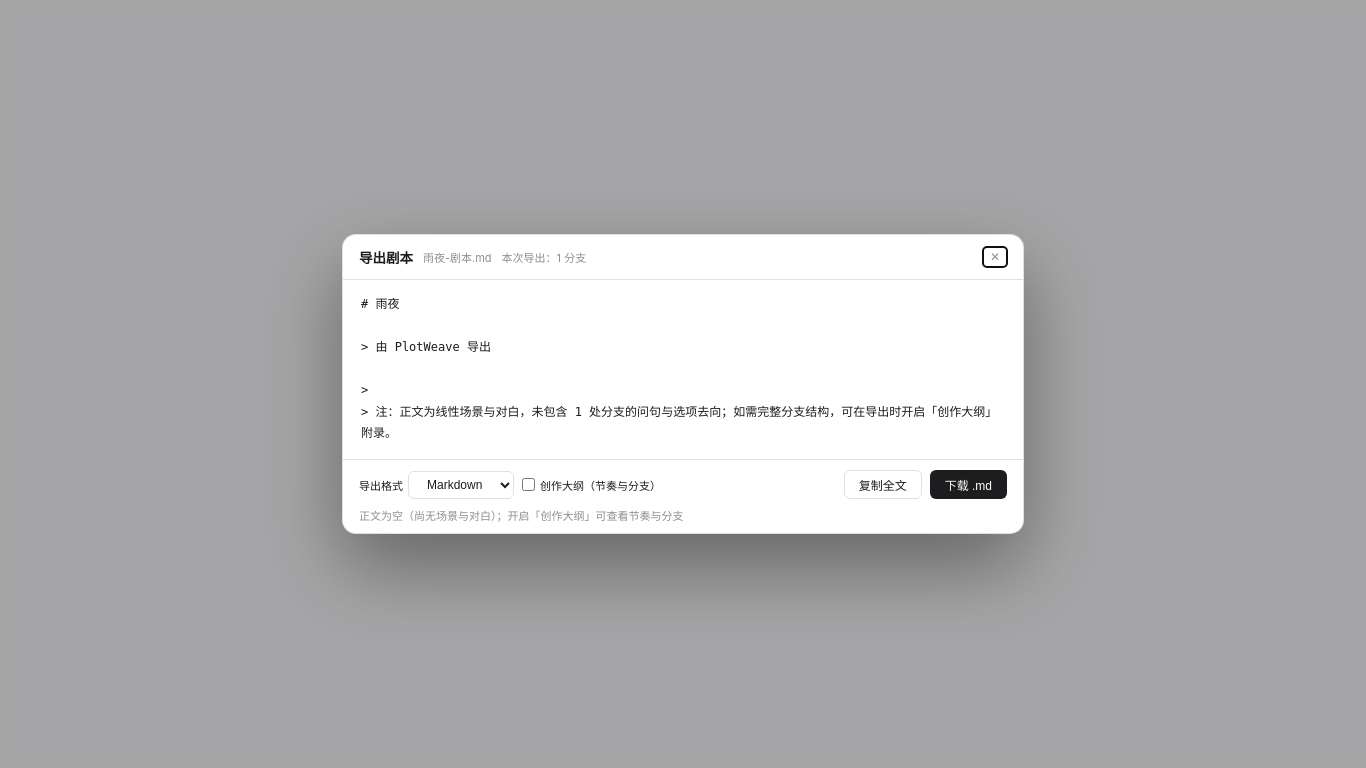
it: ExportDialog（无故事内容，review #81） › 仅有 branch 时仍引导开启有内容的大纲
The image size is (1366, 768).
Expected: the text "正文为空（尚无场景与对白）；开启「创作大纲」可查看节奏与分支" is shown, [359,509,684,523]
Click the checkbox labelled "创作大纲（节奏与分支）".
click(528, 485)  # box [522,478,535,491]
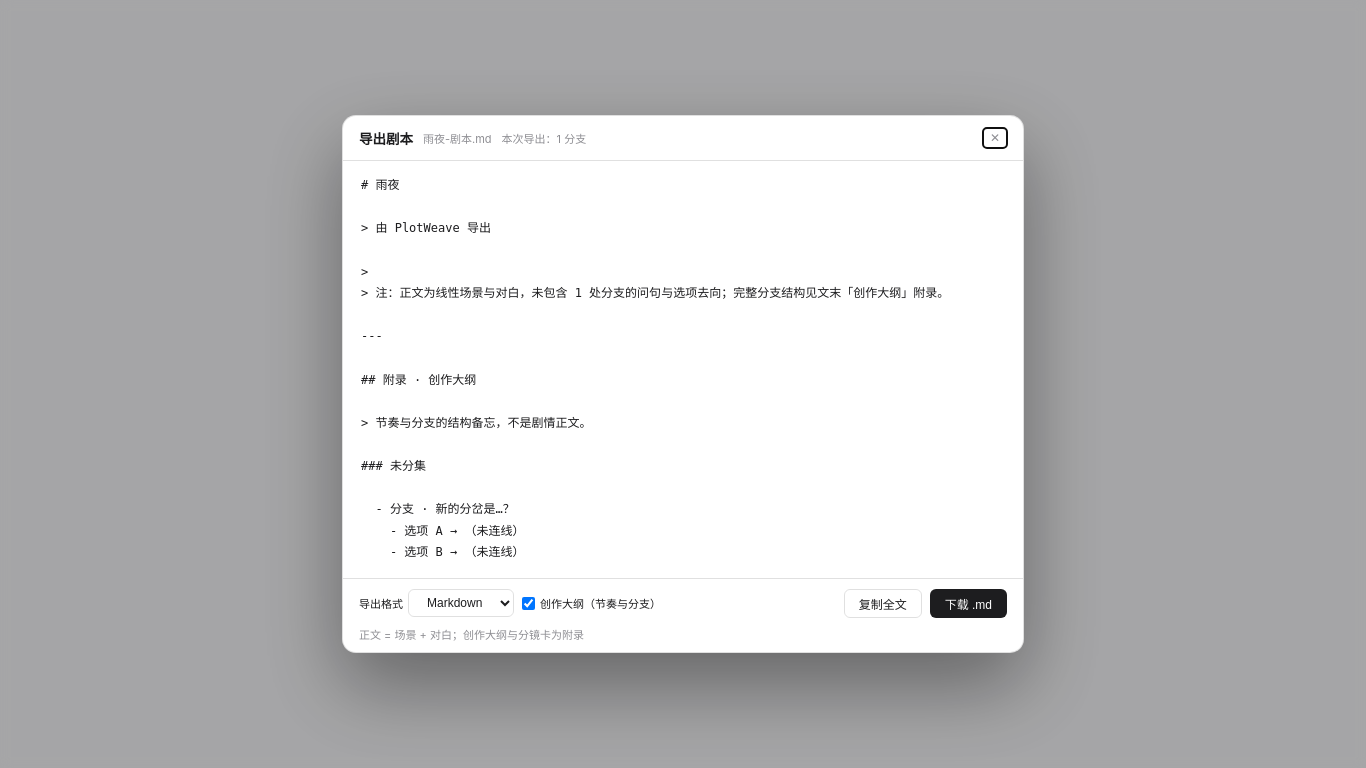
Result: the text "正文 = 场景 + 对白；创作大纲与分镜卡为附录" is shown at [359,628,584,642]
Result: the text "新的分岔是…？" is shown at [361,178,949,559]
